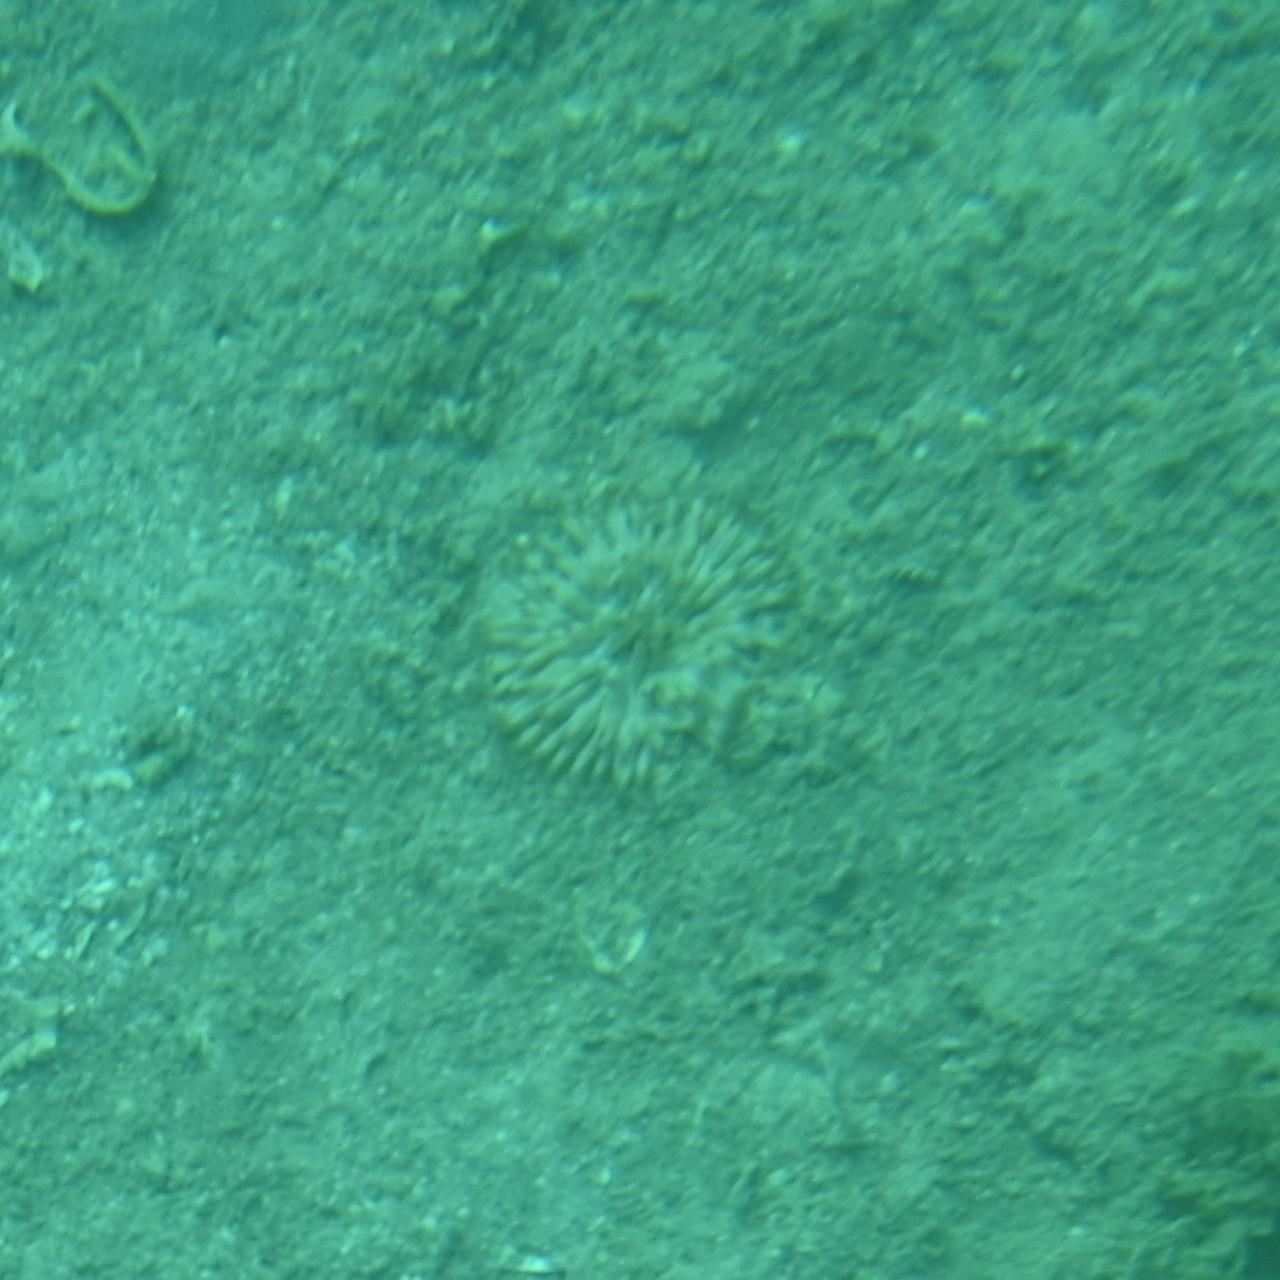Condylactis aurantiaca: (444, 460, 836, 820)
